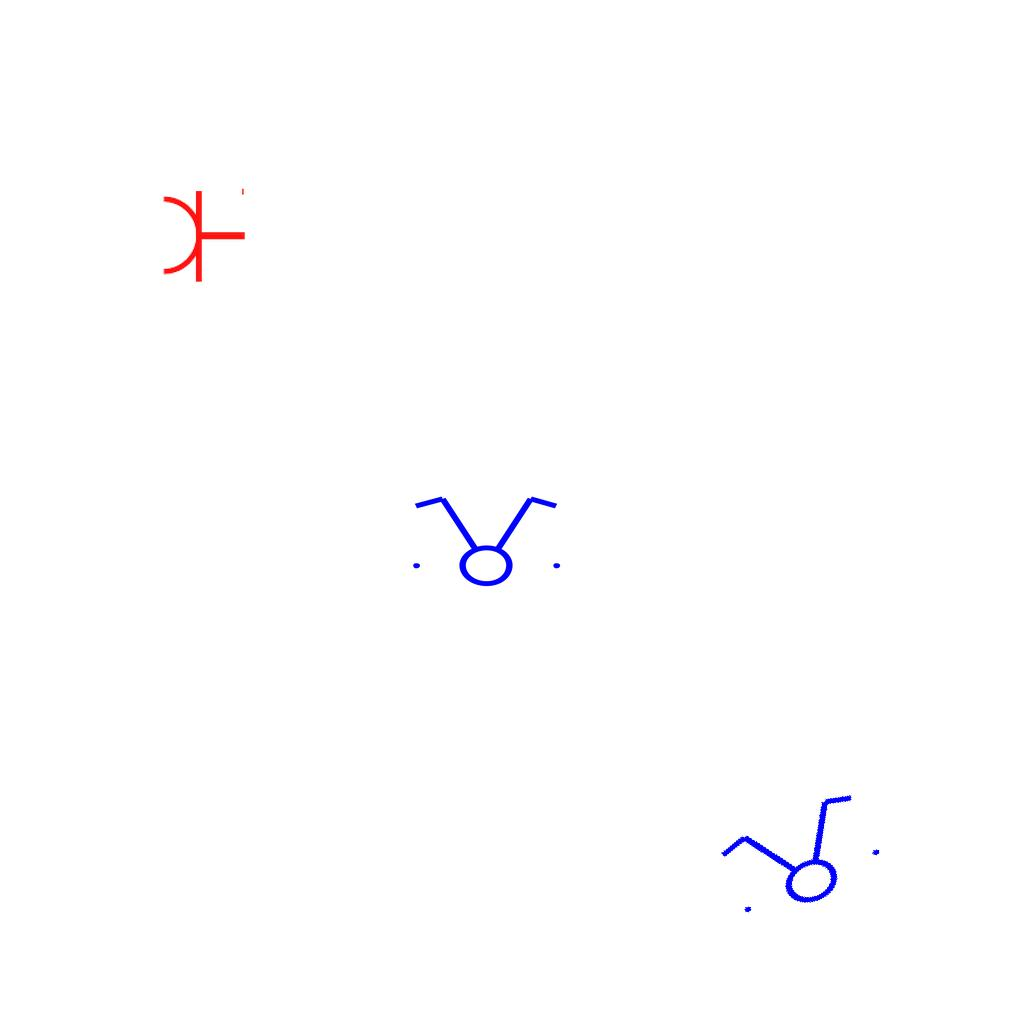Schukosteckdose_einfach: (160, 184, 247, 284)
Serienschalter: (703, 779, 897, 937), (401, 492, 569, 588)
